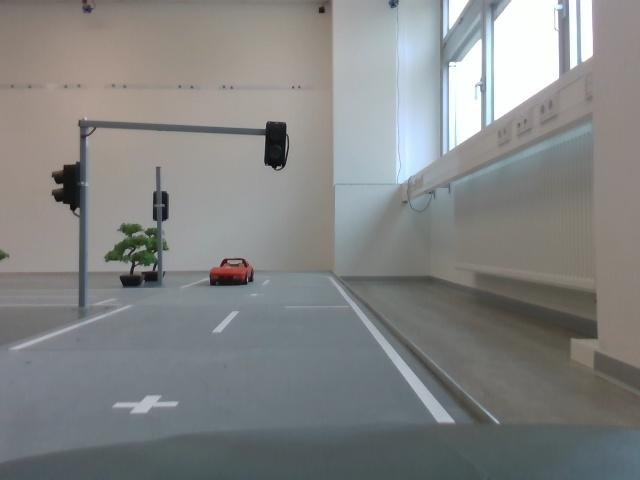car: (205, 258, 256, 291)
potted plant: (99, 221, 154, 294), (135, 226, 171, 286)
traffic light: (48, 157, 89, 220), (257, 119, 291, 177), (154, 192, 173, 228)
